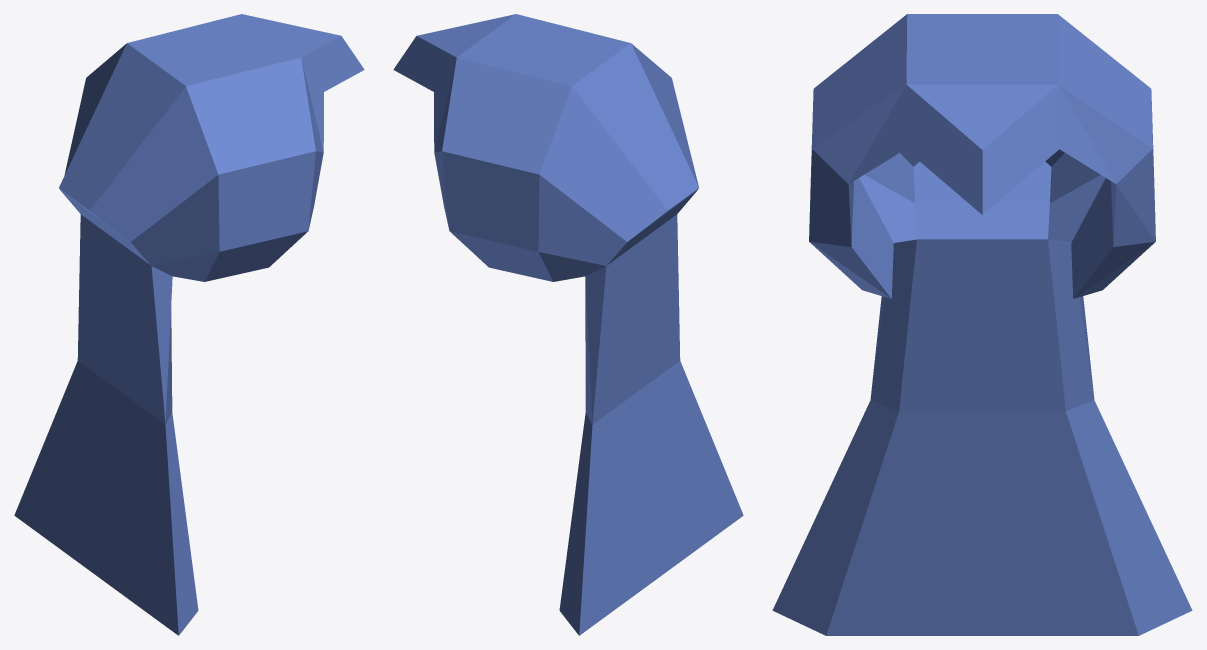
Rendered from CrafterHead.fbx.
3 renders of one model, left to right at view 1: azimuth 30°, elevation 25°; view 2: azimuth 150°, elevation 25°; view 3: azimuth 270°, elevation 25°, orthographic. The views are drawn at different scales.
Parts seen in each view (by area): view 1: Smith Cloak; view 2: Smith Cloak; view 3: Smith Cloak.
Boxes of the visible parts, x1,y1,x2,y2 form: Smith Cloak: (14,14,364,635); Smith Cloak: (393,14,743,635); Smith Cloak: (772,14,1192,635).
Bounding box in the file's own units: 413 × 675 × 405.
